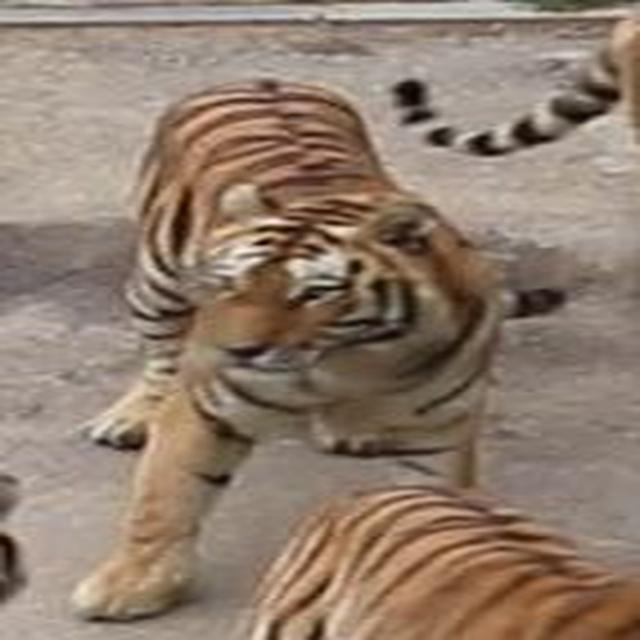tiger: (68, 74, 566, 623), (390, 6, 639, 571), (234, 482, 639, 639), (390, 11, 639, 160), (0, 447, 28, 639)
